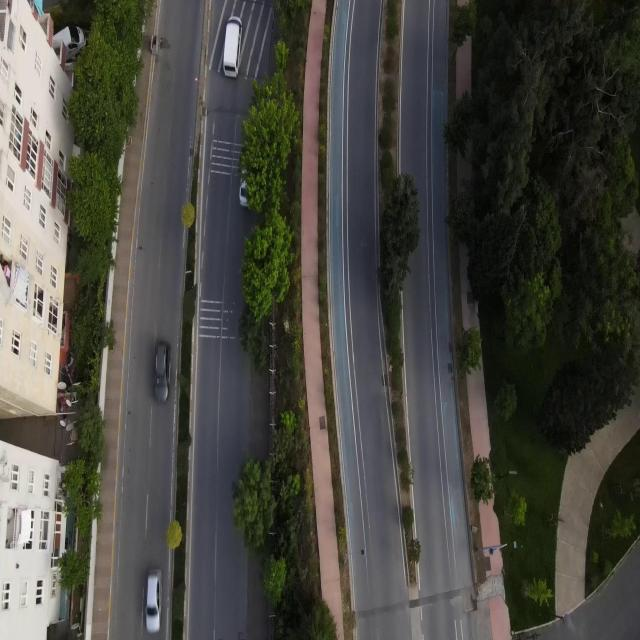p3rson: (0, 254, 10, 267), (60, 405, 66, 419)
